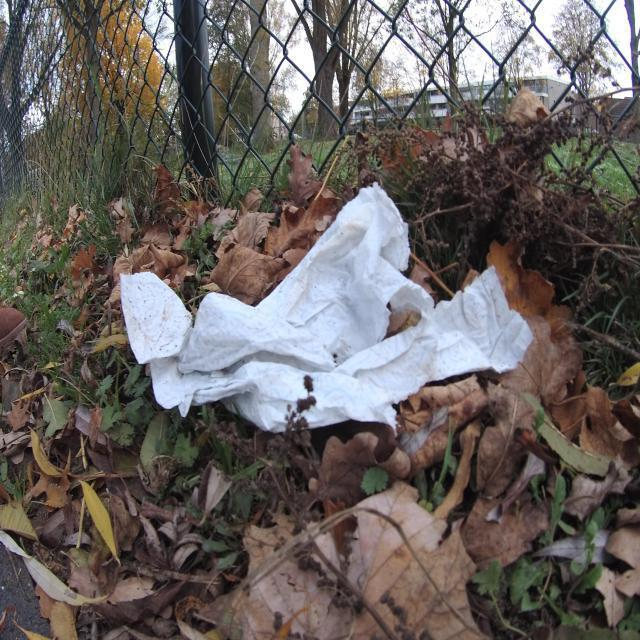Paper: (118, 180, 534, 438)
